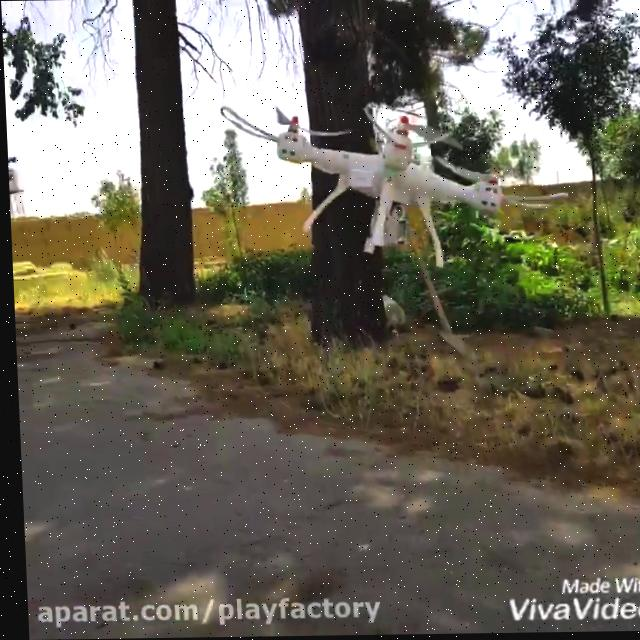drone: (215, 99, 570, 272)
